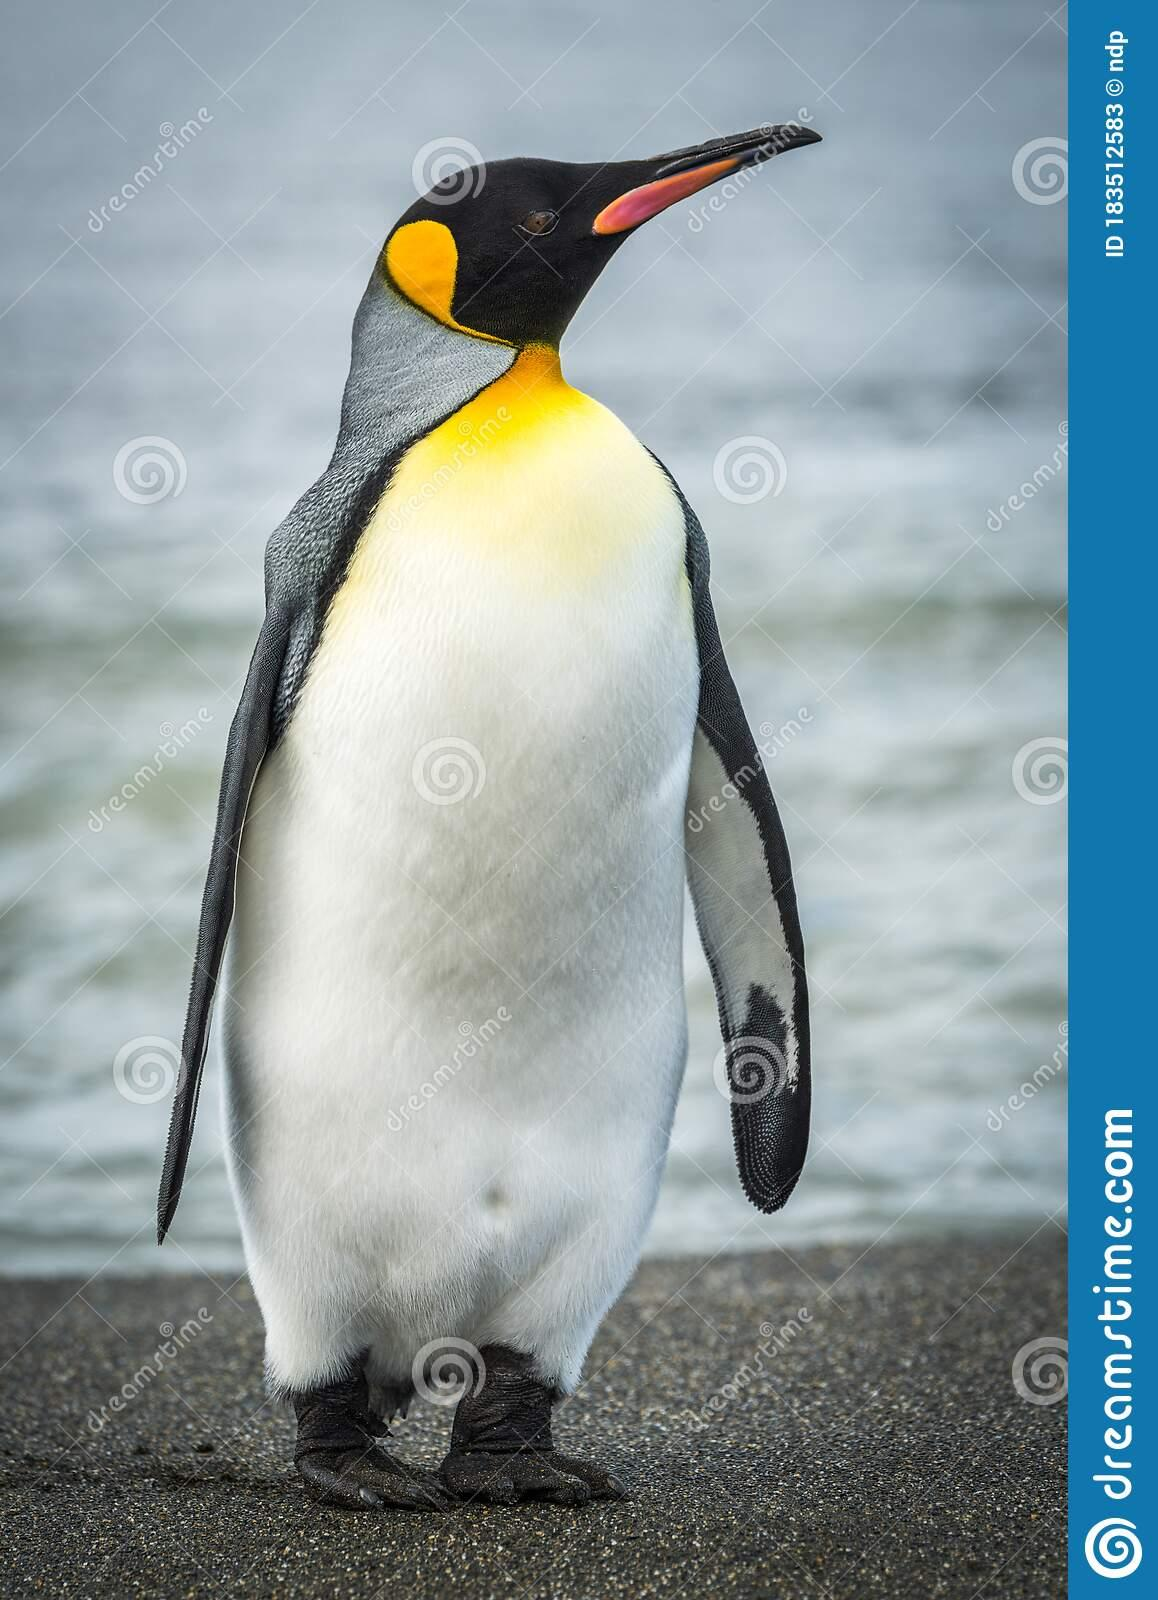king: (108, 26, 891, 1524)
